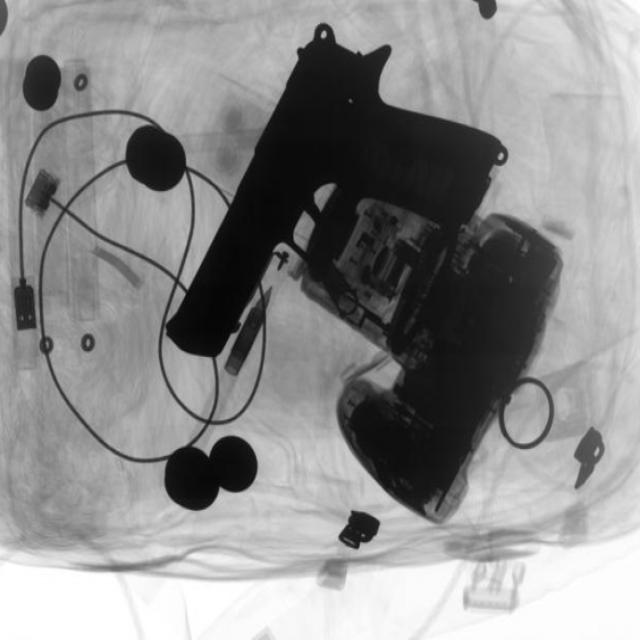GUN: (165, 38, 495, 362)
